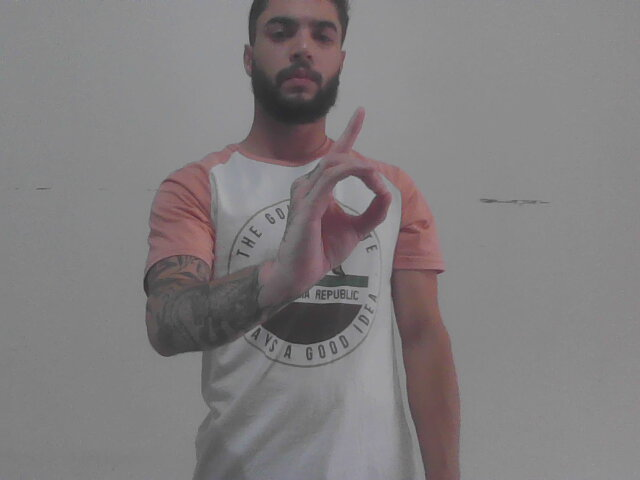d: (274, 103, 394, 307)
